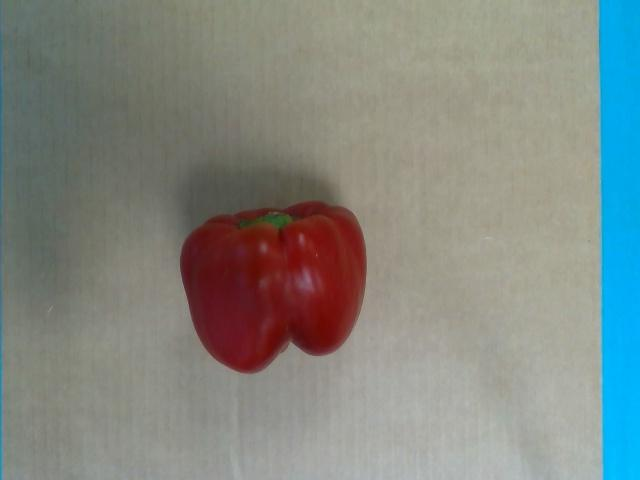red paprika: (180, 198, 366, 375)
